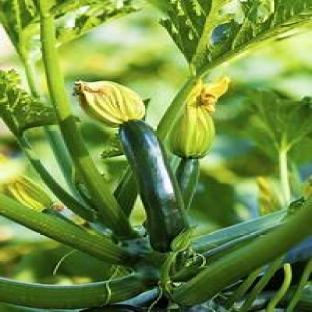Zucchini: (119, 120, 187, 252), (177, 159, 199, 210)
